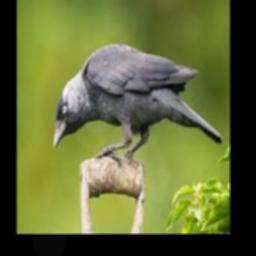Crow: (54, 43, 224, 167)
